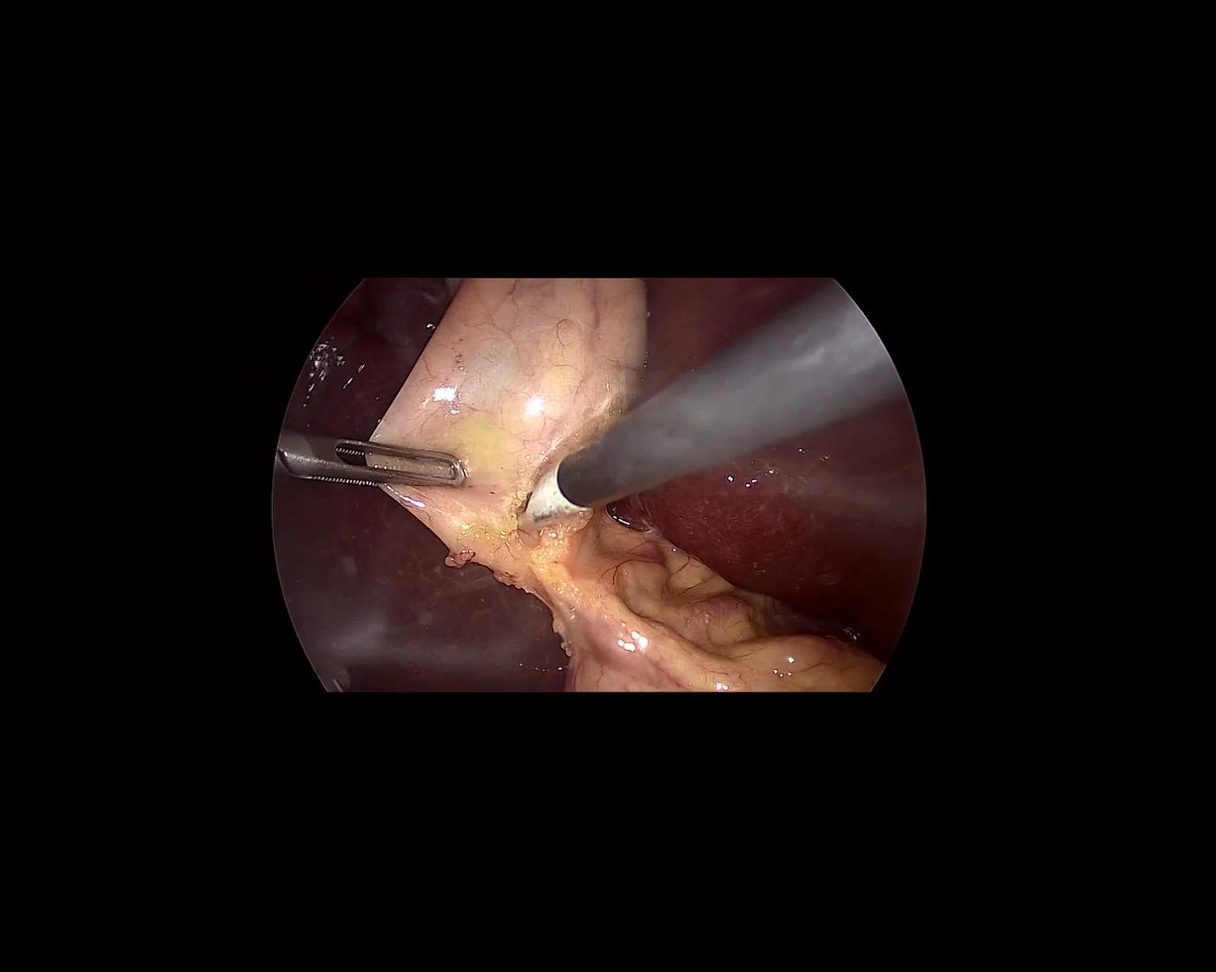Cautery: (477, 270, 904, 533)
Forceps: (273, 431, 466, 502)
Gallbladder: (342, 207, 682, 598)
Liver: (208, 251, 580, 755), (598, 262, 942, 663)
